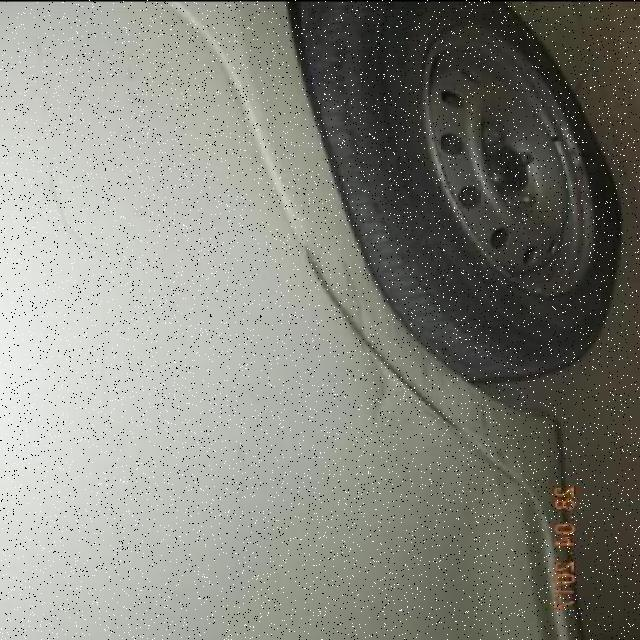damage: (299, 241, 502, 451), (41, 89, 110, 255), (365, 364, 391, 423)
